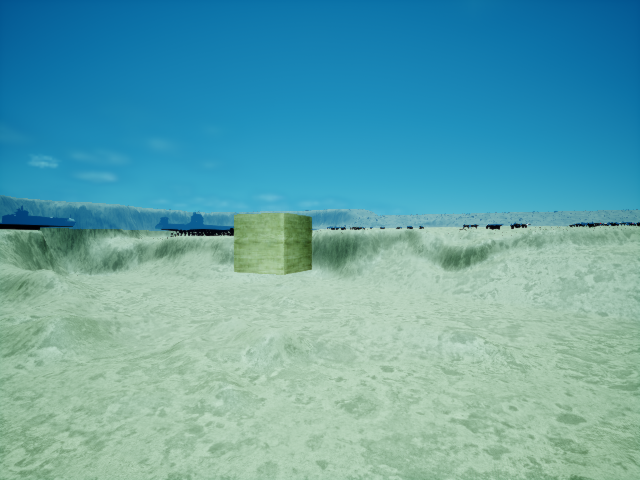Cube: (226, 204, 316, 281)
